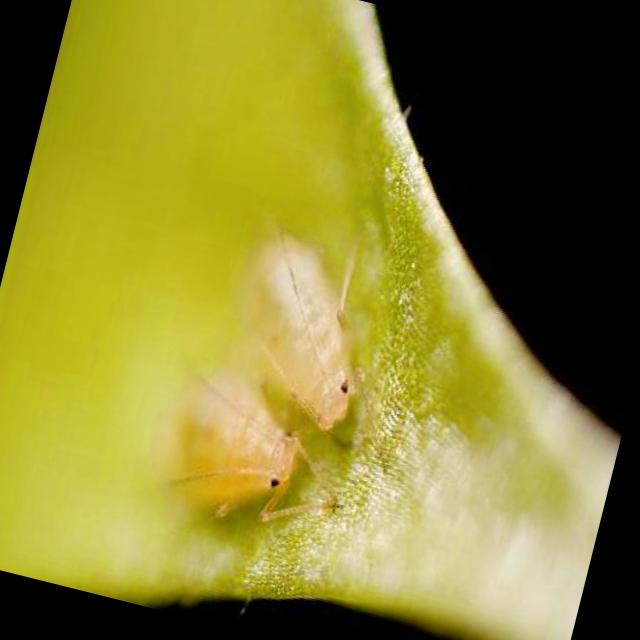aphid: (127, 354, 370, 550), (215, 223, 410, 443)
